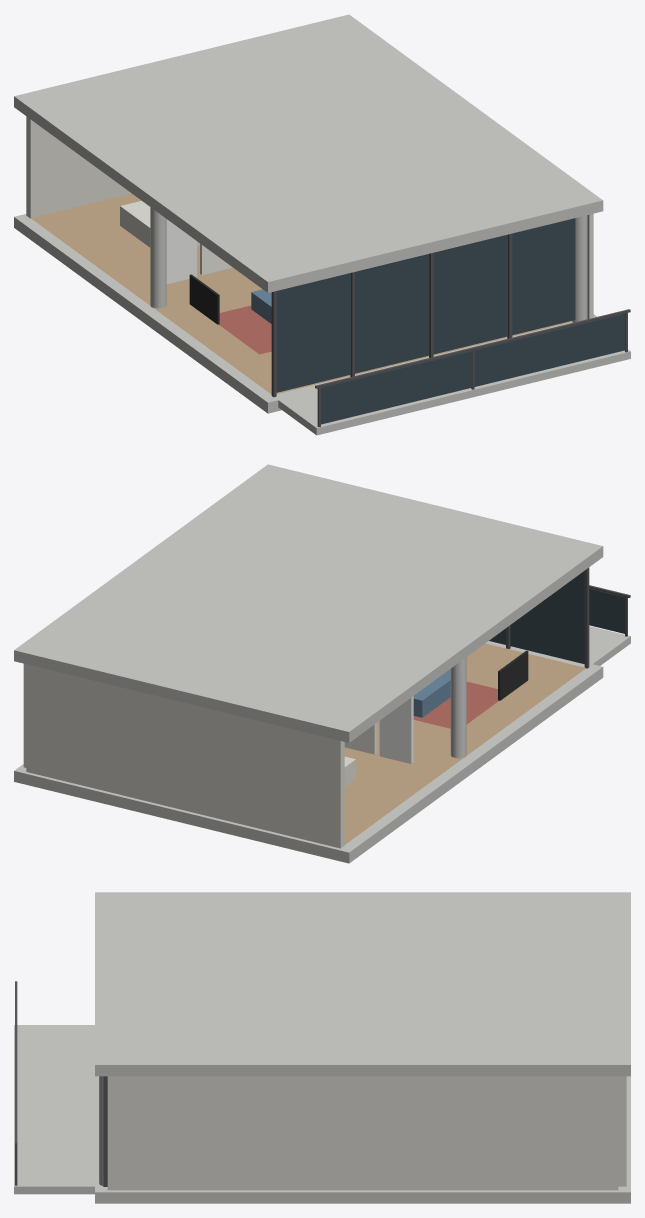
File: condo.glb
3 views of the same model, one above another, from view 1: azimuth 30°, elevation 25°; view 2: azimuth 150°, elevation 25°; view 3: azimuth 270°, elevation 25° (orthographic). The views are drawn at different scales.
Parts seen in each view (by area): view 1: structure|MI_cnd_concrete, window|MI_cnd_glass, finishes|MI_cnd_floor, railing|MI_cnd_glass, structure|MI_cnd_corridor, window|MI_cnd_rail, railing|MI_cnd_rail, contents|MI_cnd_rug, finishes|MI_cnd_door, contents|MI_cnd_bed, contents|MI_cnd_tv; view 2: structure|MI_cnd_concrete, structure|MI_cnd_corridor, finishes|MI_cnd_floor, window|MI_cnd_glass, finishes|MI_cnd_door, contents|MI_cnd_rug, railing|MI_cnd_glass, contents|MI_cnd_sofa, contents|MI_cnd_tv, window|MI_cnd_rail, finishes|MI_cnd_partition; view 3: structure|MI_cnd_concrete, structure|MI_cnd_corridor, railing|MI_cnd_rail, window|MI_cnd_rail.
Boxes of the visible parts, x1,y1,x2,y2 form: structure|MI_cnd_concrete: (14, 14, 630, 435); window|MI_cnd_glass: (276, 218, 575, 392); finishes|MI_cnd_floor: (31, 193, 572, 394); railing|MI_cnd_glass: (321, 313, 625, 424); structure|MI_cnd_corridor: (26, 116, 593, 318); window|MI_cnd_rail: (271, 215, 589, 397); railing|MI_cnd_rail: (315, 309, 630, 426); contents|MI_cnd_rug: (219, 305, 271, 354); finishes|MI_cnd_door: (166, 219, 196, 284); contents|MI_cnd_bed: (120, 201, 199, 247); contents|MI_cnd_tv: (189, 274, 219, 324); structure|MI_cnd_concrete: (14, 464, 630, 863); structure|MI_cnd_corridor: (23, 663, 344, 848); finishes|MI_cnd_floor: (344, 643, 585, 844); window|MI_cnd_glass: (489, 571, 584, 663); finishes|MI_cnd_door: (379, 696, 413, 763); contents|MI_cnd_rug: (413, 681, 498, 728); railing|MI_cnd_glass: (589, 588, 624, 633); contents|MI_cnd_sofa: (413, 669, 450, 717); contents|MI_cnd_tv: (498, 650, 528, 700); window|MI_cnd_rail: (506, 567, 589, 668); finishes|MI_cnd_partition: (344, 723, 376, 754); structure|MI_cnd_concrete: (14, 892, 630, 1203); structure|MI_cnd_corridor: (107, 1076, 626, 1190); railing|MI_cnd_rail: (15, 981, 17, 1185); window|MI_cnd_rail: (103, 1076, 107, 1186).
Bounding box in the file's own units: 9.6 × 3.6 × 14.5.
